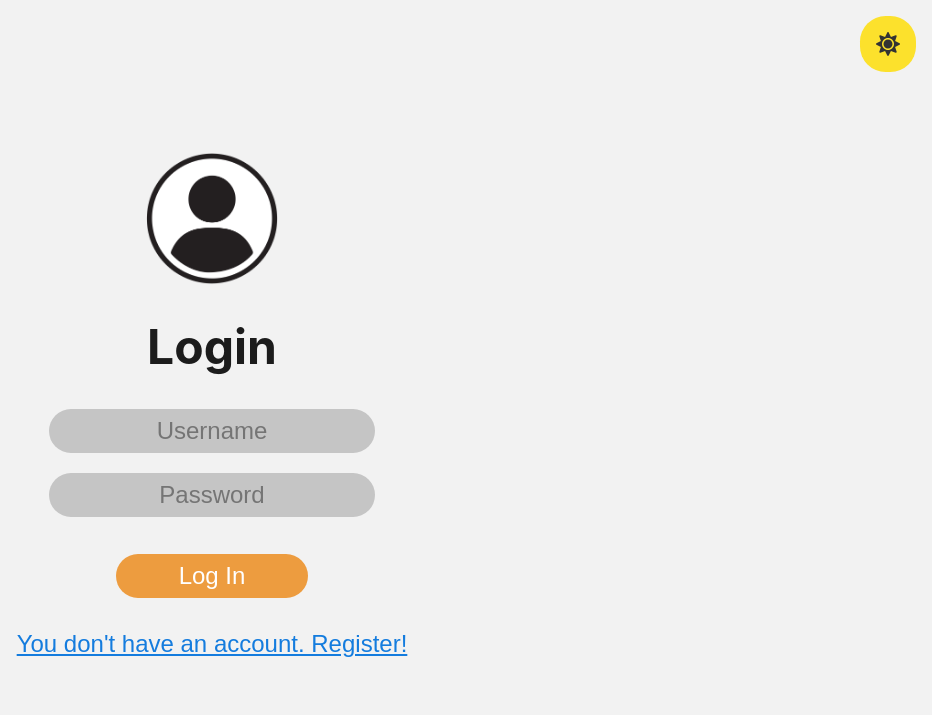
Test: Login Component › handles login correctly
Type "JohnDoe" into the field with placeholder "Username" at (212, 430), box [49,408,375,452]
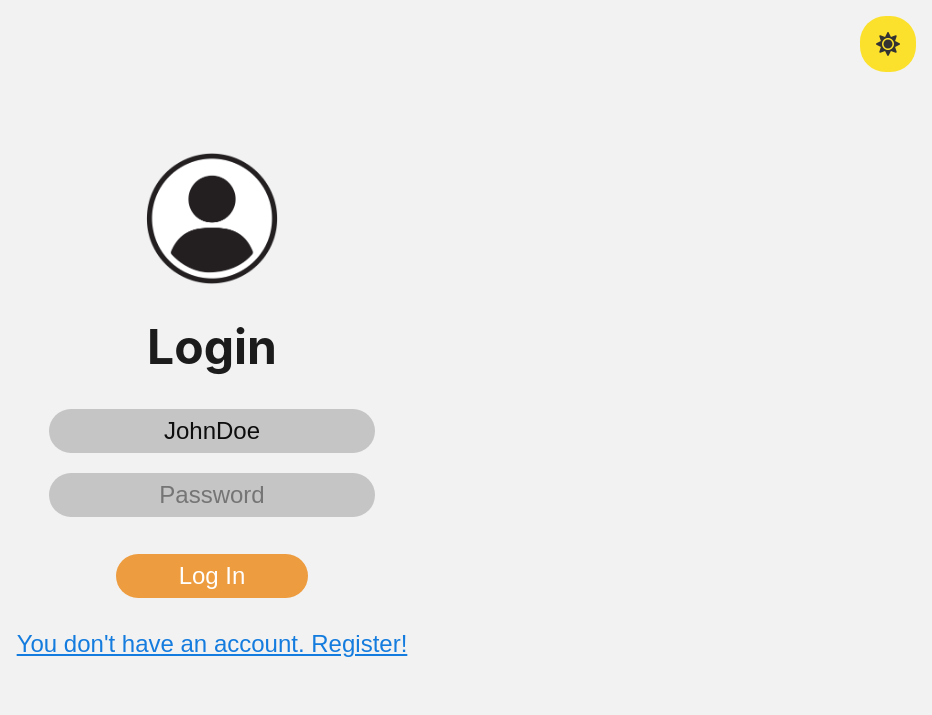
Type "password123" into the password field with placeholder "Password" at (212, 495), box [49,473,375,517]
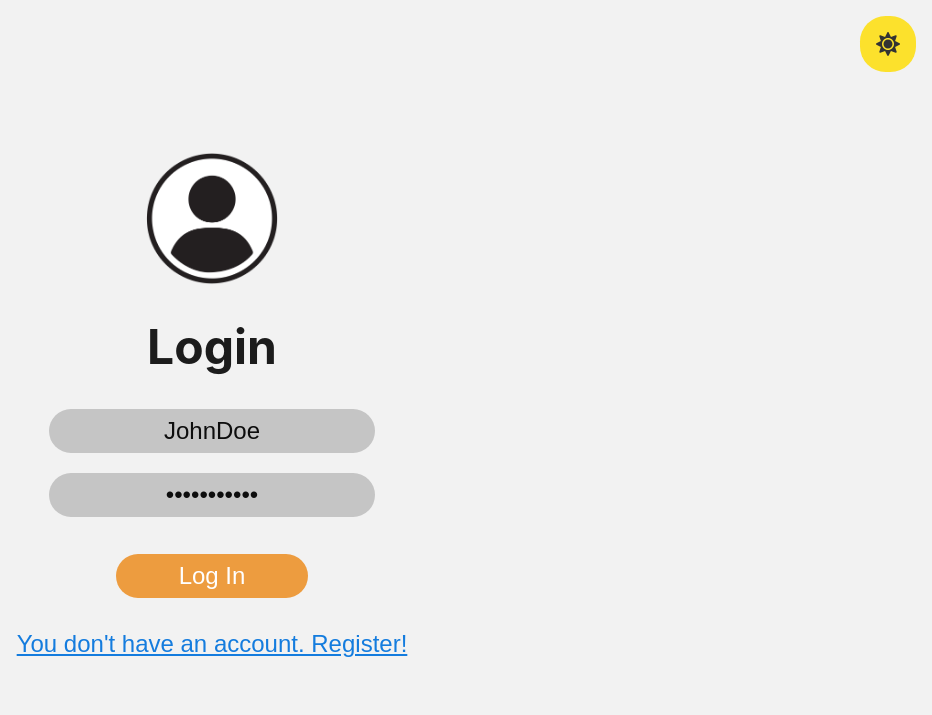
Click the button "Log In" at (212, 576), box [116,554,308,598]
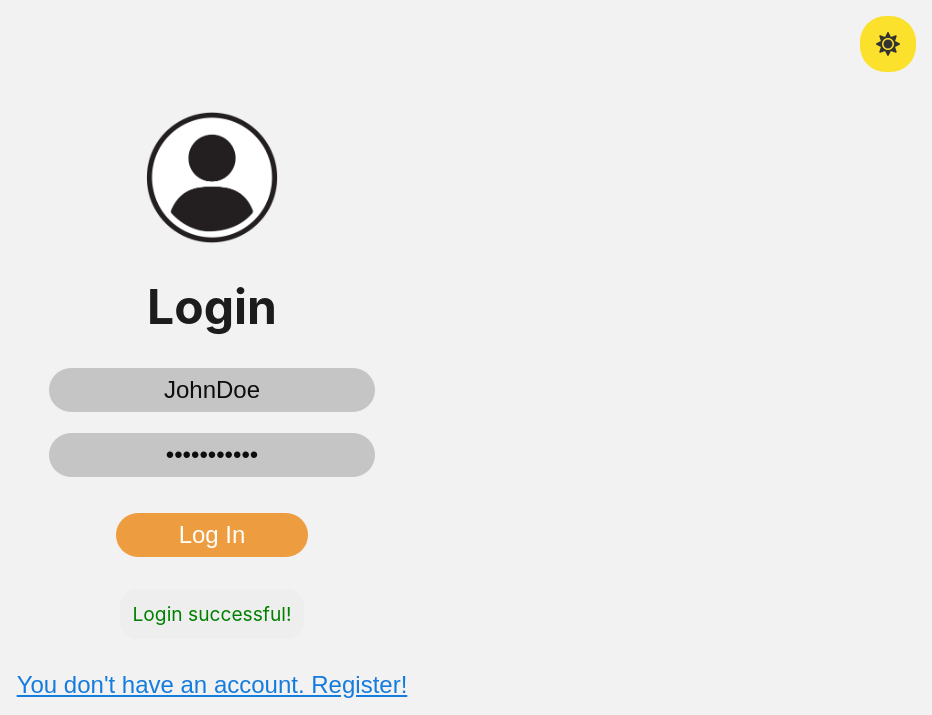
Expected: the text "Login successful!" is shown, [120,589,304,639]
